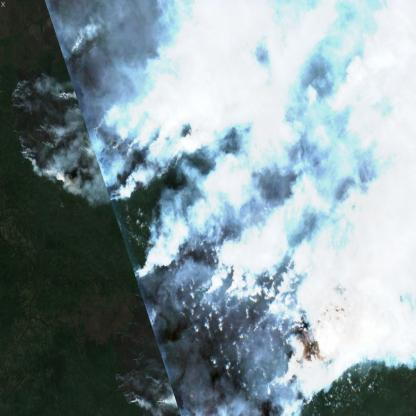fire: (9, 25, 416, 416)
